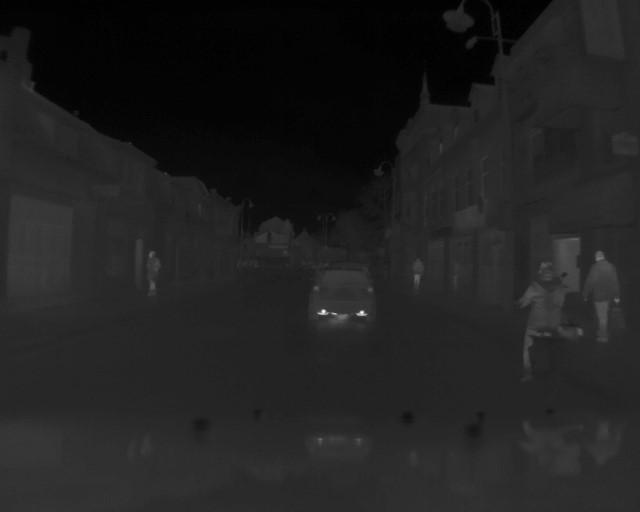car: (303, 264, 377, 328)
person: (510, 255, 576, 383), (582, 234, 625, 349), (139, 243, 162, 298), (407, 255, 426, 287)
